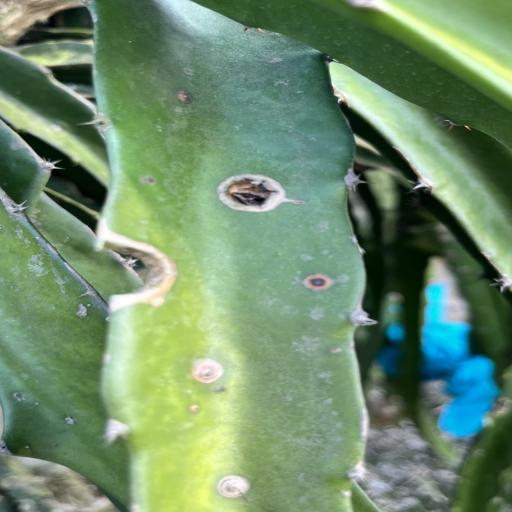stemcanker: (324, 341, 345, 358), (136, 175, 164, 187), (187, 401, 203, 420), (62, 413, 80, 427), (16, 442, 36, 454)
